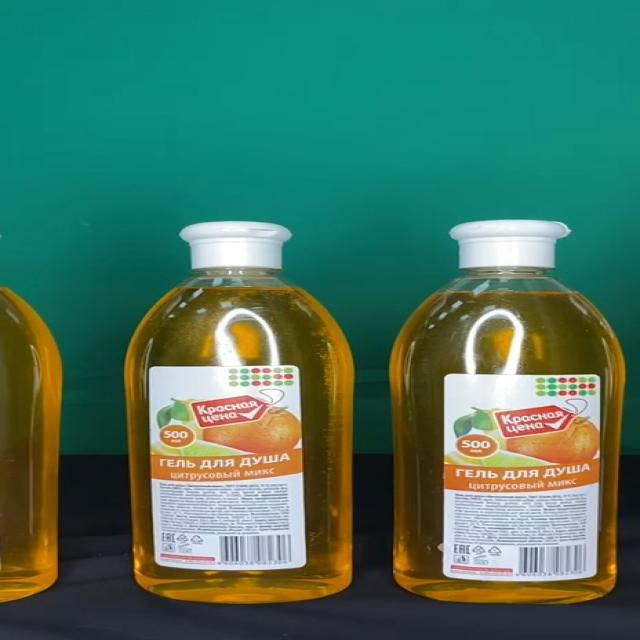Bottle: (387, 219, 626, 604), (125, 221, 355, 603)
Cap: (448, 220, 571, 268), (179, 221, 293, 269)
